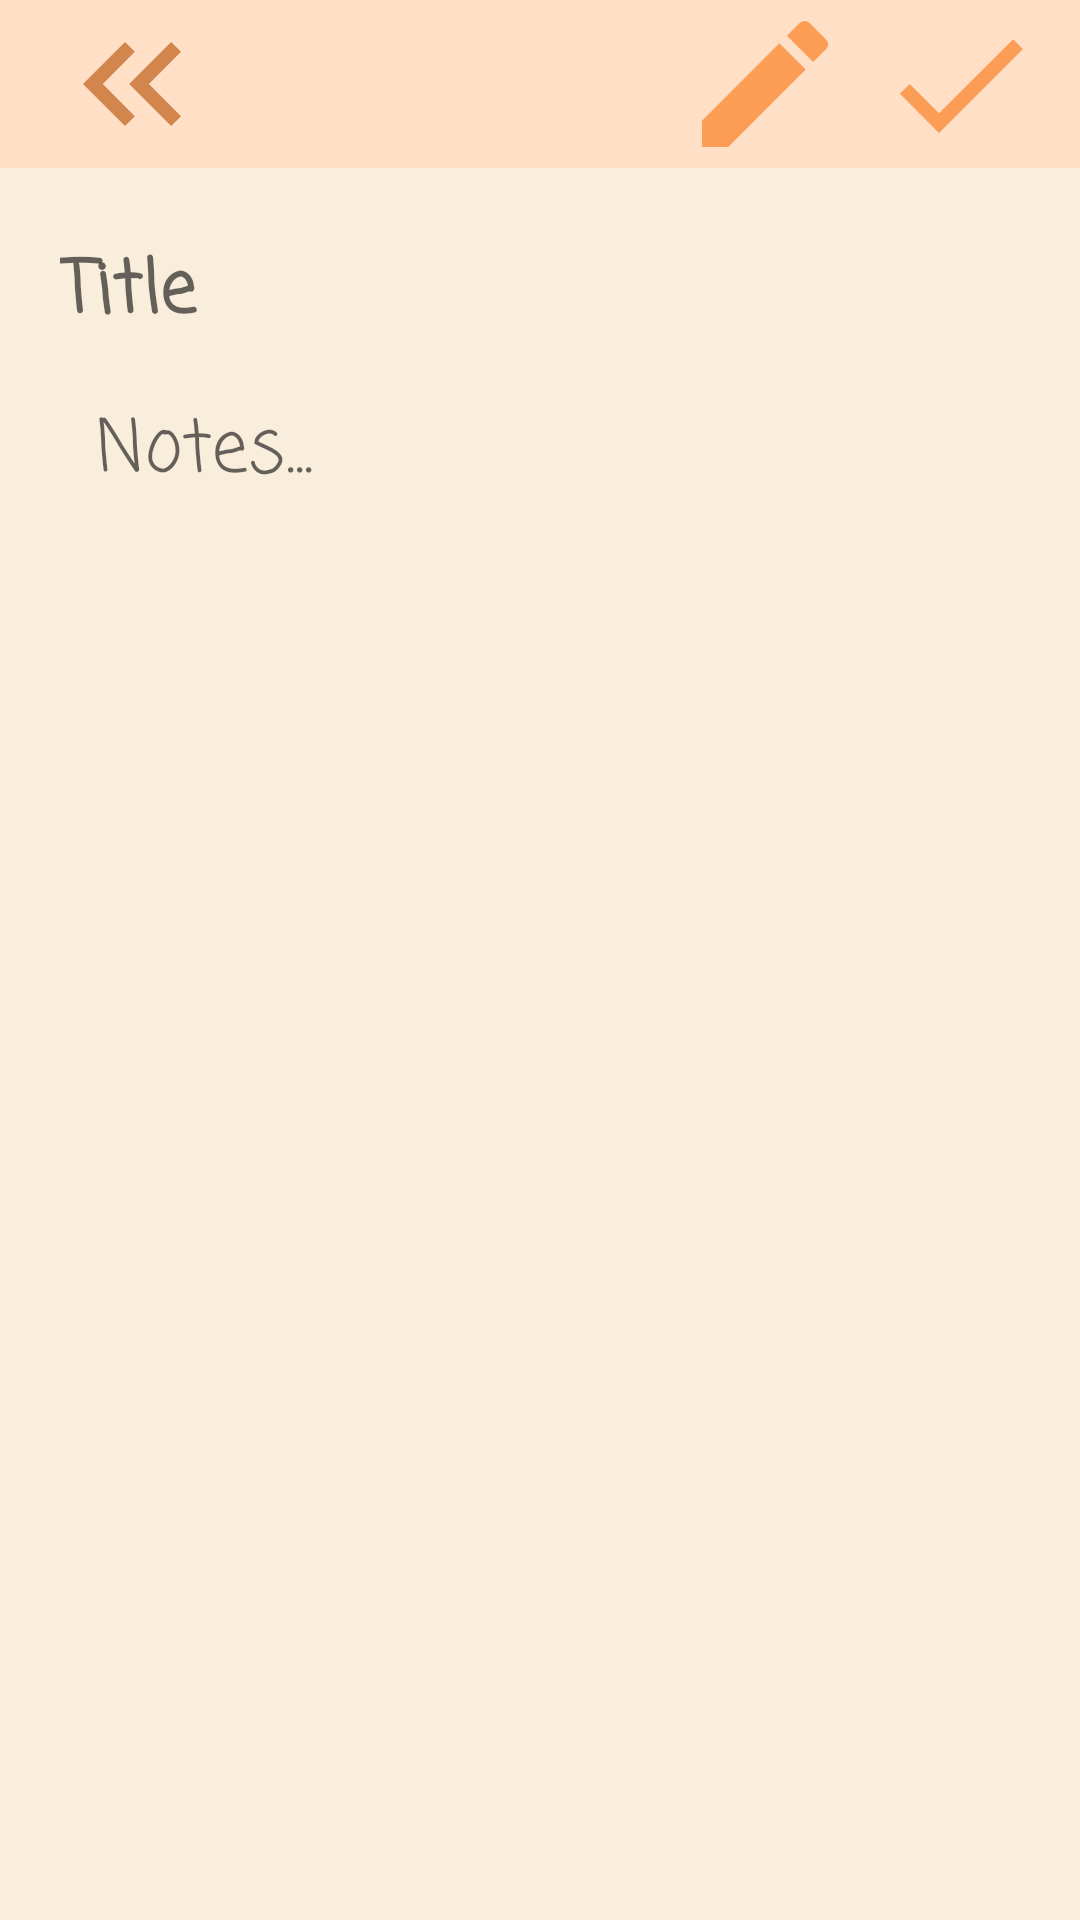

Point at icon controls on the screen. Image size 1080x1920, points as [x,y].
check: [961,86]
edit: [765,84]
